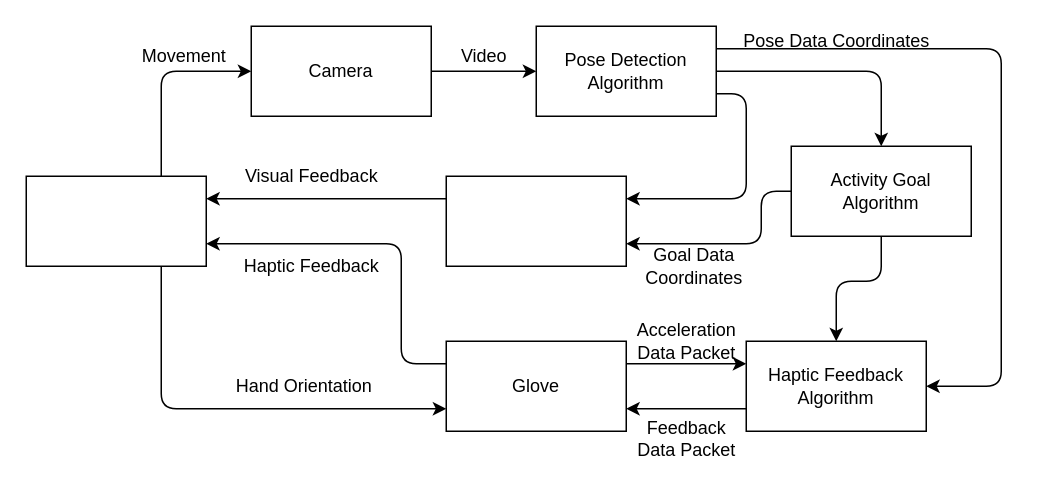
Image size: 1040x488. Some labels were removed from this diagram. Each missing label, with the centre of its shape:
Display: (x=535, y=220)
User: (x=115, y=220)
